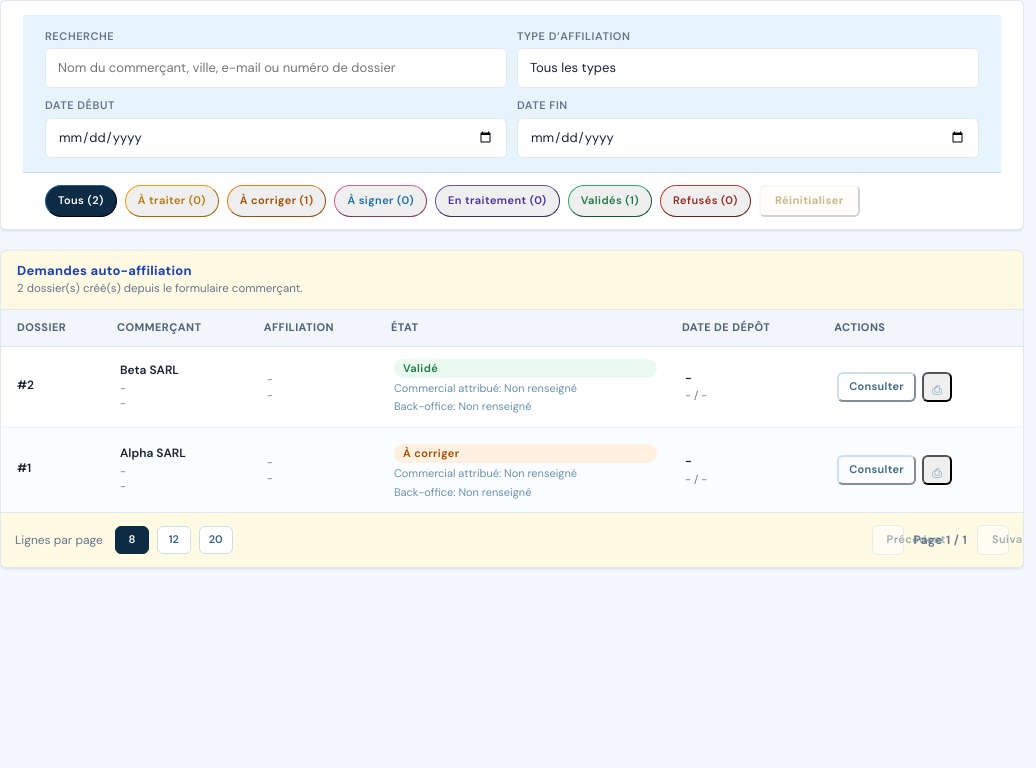
Scenario: CommercialDossiersPage › filtre par statut via les boutons de filtre, puis reinitialise
The width and height of the screenshot is (1036, 768).
Expected: the text "Alpha SARL" is shown, x1=120 y1=445 x2=186 y2=461
Expected: the text "Beta SARL" is shown, x1=120 y1=362 x2=179 y2=378
Click the button "À corriger (1)".
click(277, 201)  # box x1=227 y1=185 x2=326 y2=217
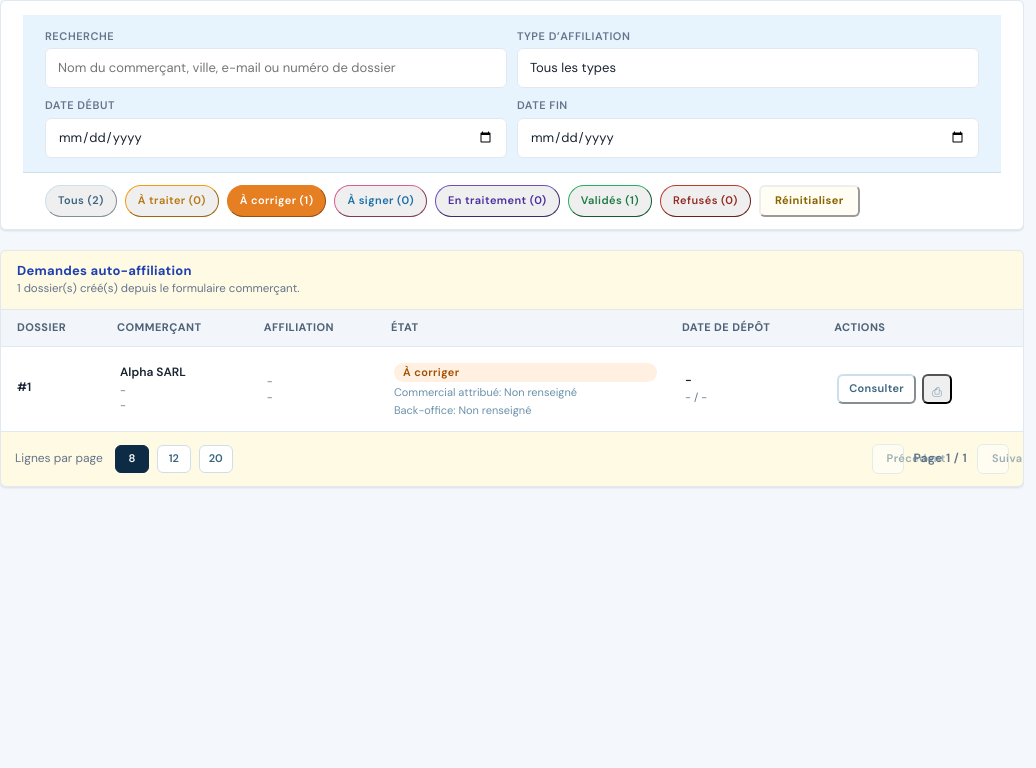
Expected: the text "Alpha SARL" is shown, x1=120 y1=364 x2=186 y2=380
Expected: the text "Beta SARL" is gone
Expected: the button "Réinitialiser" is enabled
Click the button "Réinitialiser".
click(809, 201)  # box x1=759 y1=185 x2=860 y2=217
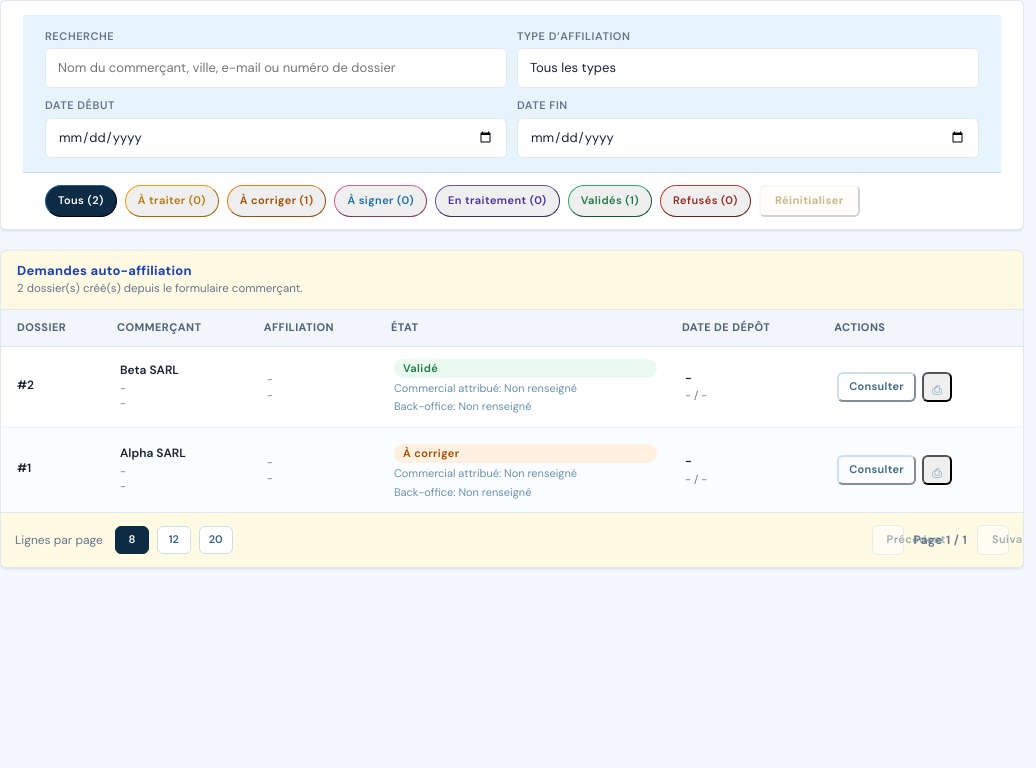
Expected: the text "Alpha SARL" is shown, x1=120 y1=445 x2=186 y2=461
Expected: the text "Beta SARL" is shown, x1=120 y1=362 x2=179 y2=378
